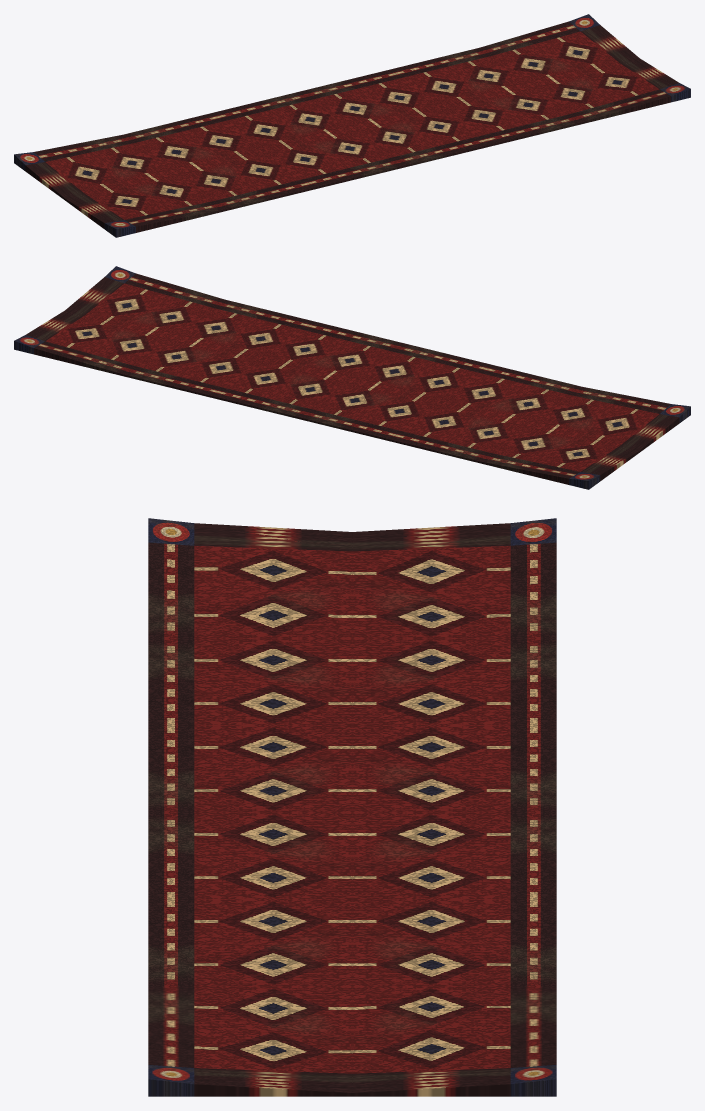
File: Runner_Entrance.fbx
3 views of the same model, one above another, from view 1: azimuth 30°, elevation 25°; view 2: azimuth 150°, elevation 25°; view 3: azimuth 270°, elevation 25° (orthographic). The views are drawn at different scales.
Parts seen in each view (by area): view 1: Runner_Entrance; view 2: Runner_Entrance; view 3: Runner_Entrance.
Boxes of the visible parts, box(x1,y1,x2,y2) form: Runner_Entrance: box(14, 14, 690, 237); Runner_Entrance: box(14, 266, 690, 489); Runner_Entrance: box(148, 518, 556, 1096).
Bounding box in the file's own units: 2.6 × 0.038 × 0.8.
